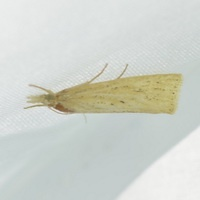insect: (25, 63, 182, 113)
